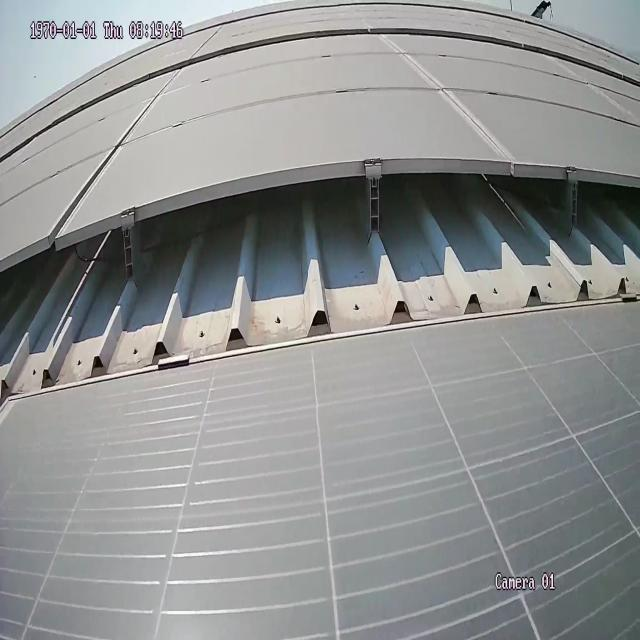interior panel: (52, 80, 173, 228), (383, 35, 515, 157)
outher panel: (0, 168, 640, 407)
